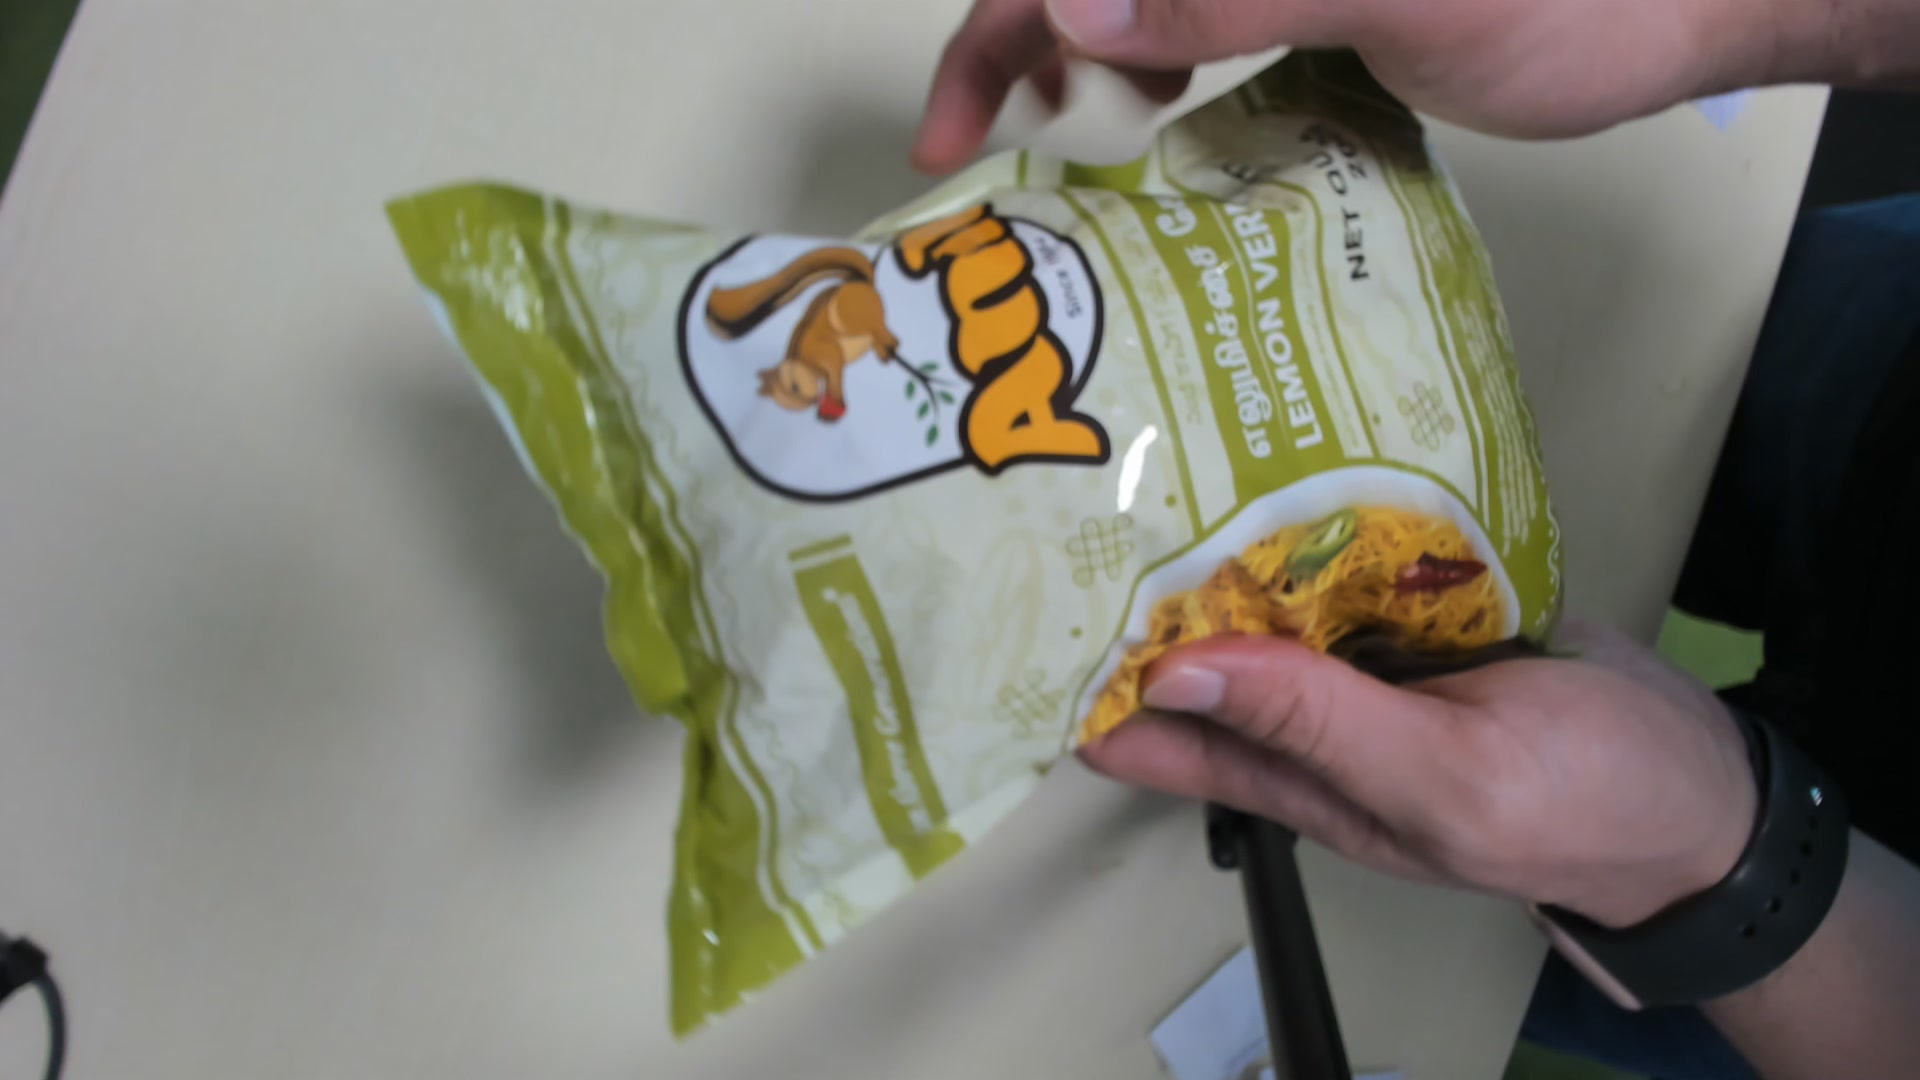BeeHoonVermicelli_200-299g_NonHalal_NonHealthy: (415, 47, 1573, 1027)
